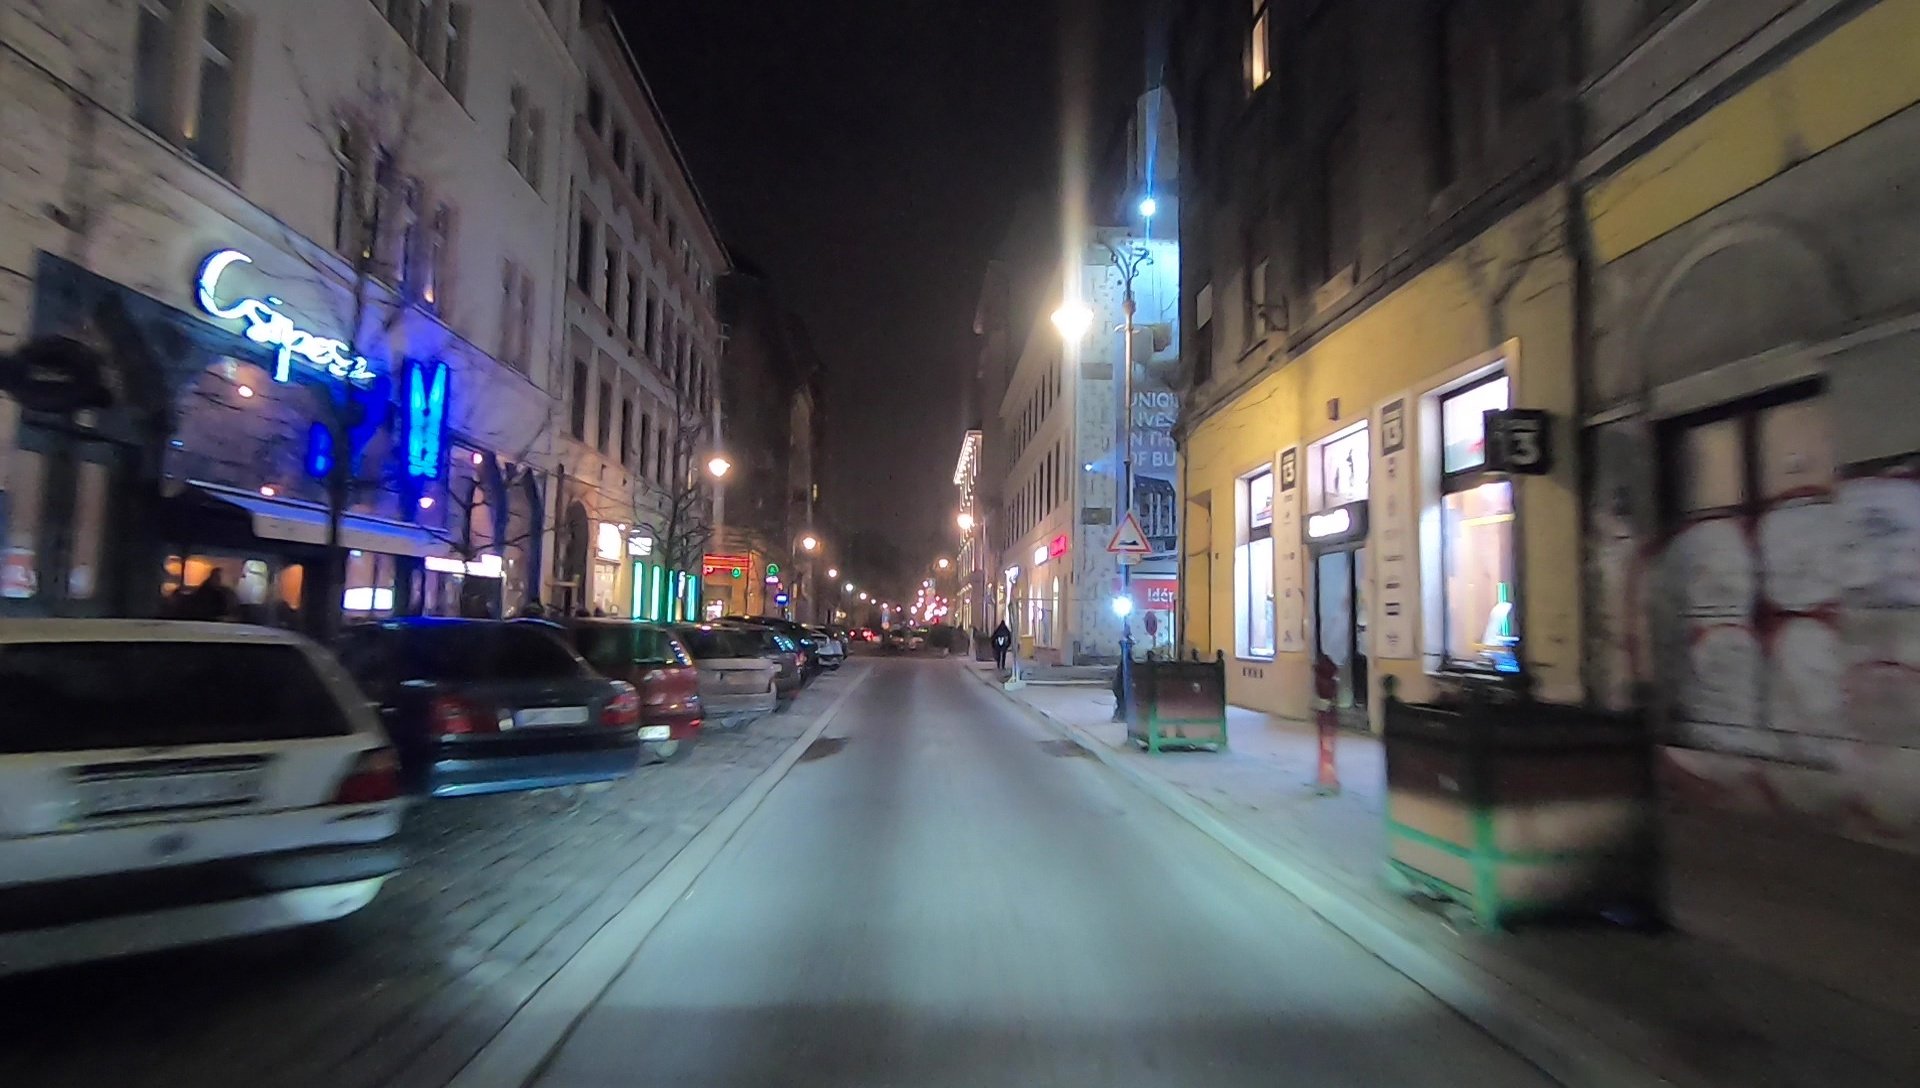person: (993, 619, 1010, 669)
